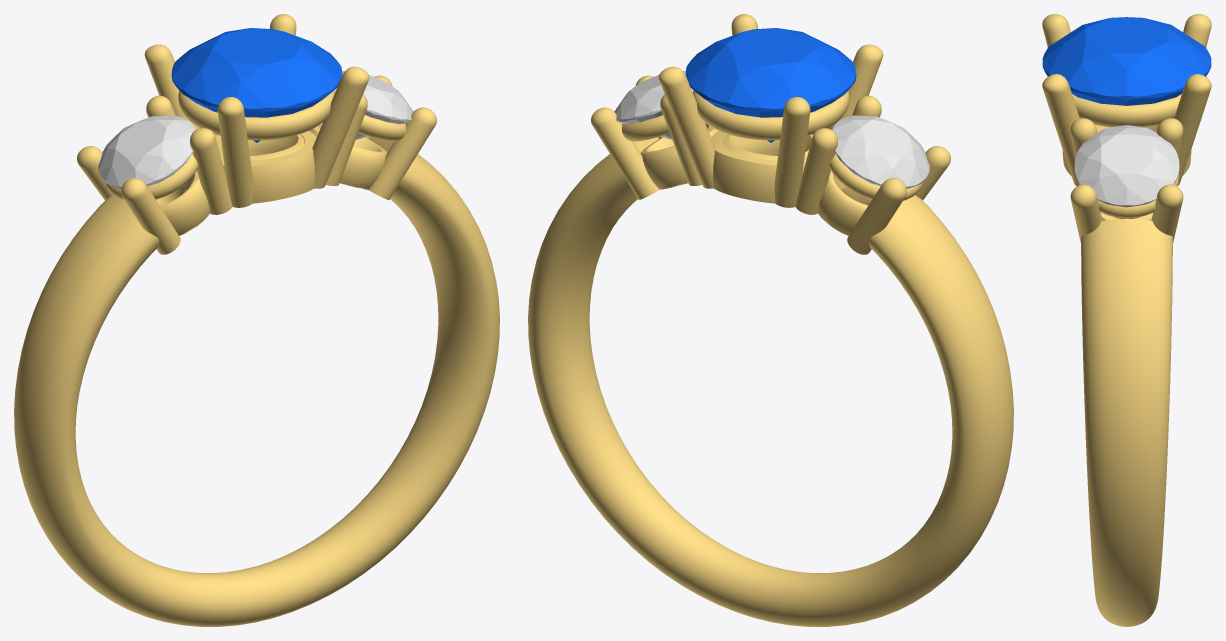
File: bluesapphire-round-yellowgold-4prong-taperedband-2stone.glb
3 renders of one model, left to right at view 1: azimuth 30°, elevation 25°; view 2: azimuth 150°, elevation 25°; view 3: azimuth 270°, elevation 25°, orthographic.
Visible parts, largest first — view 1: metal, stone, side.001, side; view 2: metal, stone, side.001, side; view 3: metal, stone, side.
Boxes of the visible parts, <box> form: metal: <box>14,14,499,626</box>; stone: <box>171,28,342,142</box>; side.001: <box>98,115,195,188</box>; side: <box>334,71,413,139</box>; metal: <box>528,14,1013,626</box>; stone: <box>685,28,856,142</box>; side.001: <box>832,115,929,188</box>; side: <box>614,71,693,139</box>; metal: <box>1042,14,1211,626</box>; stone: <box>1042,17,1211,105</box>; side: <box>1074,125,1179,207</box>.
Bounding box in the file's own units: 20.49 × 23.8 × 6.45.
